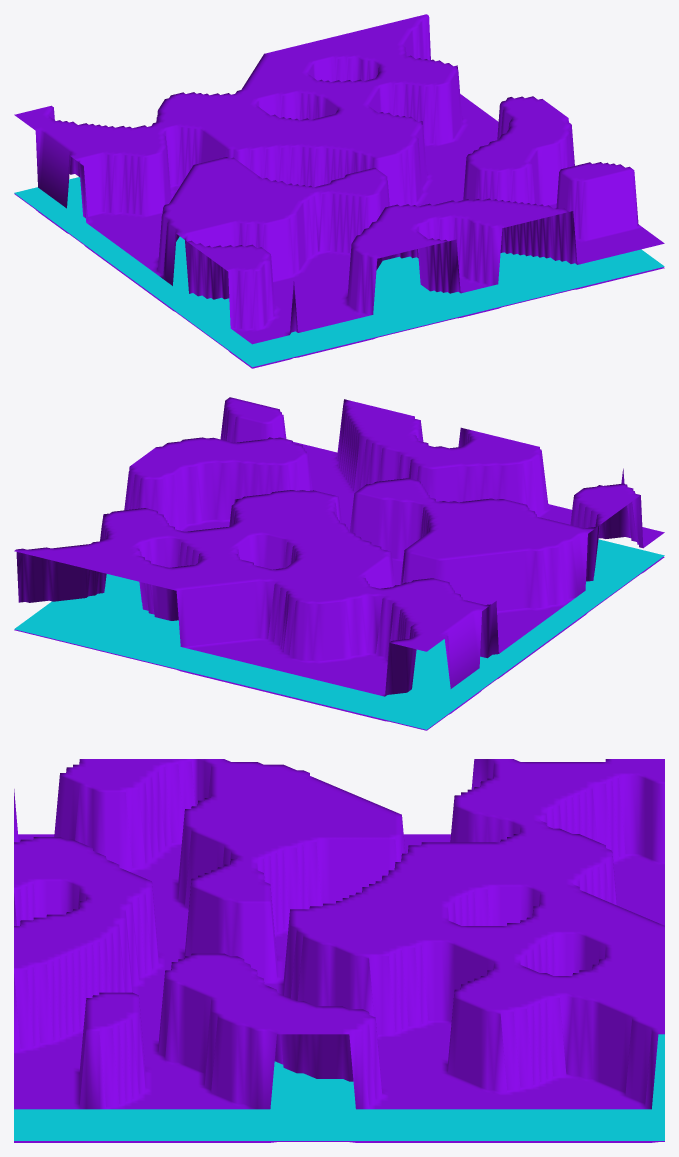
The model's file is landscape.fbx.
The picture shows the model from 3 angles, top to bottom: view 1: azimuth 30°, elevation 25°; view 2: azimuth 150°, elevation 25°; view 3: azimuth 270°, elevation 25°; orthographic projection. The views are drawn at different scales.
Visible parts, largest first — view 1: Landscape, Skyscraper; view 2: Landscape, Skyscraper; view 3: Landscape, Skyscraper.
Part boxes in pixels (x1,y1,x2,y2): Landscape: (14,14,664,367); Skyscraper: (14,193,664,368); Landscape: (14,397,664,729); Skyscraper: (14,556,664,730); Landscape: (14,759,664,1140); Skyscraper: (14,1141,664,1142).
Size of the model in its own units: 50000 by 9337 by 50000.
